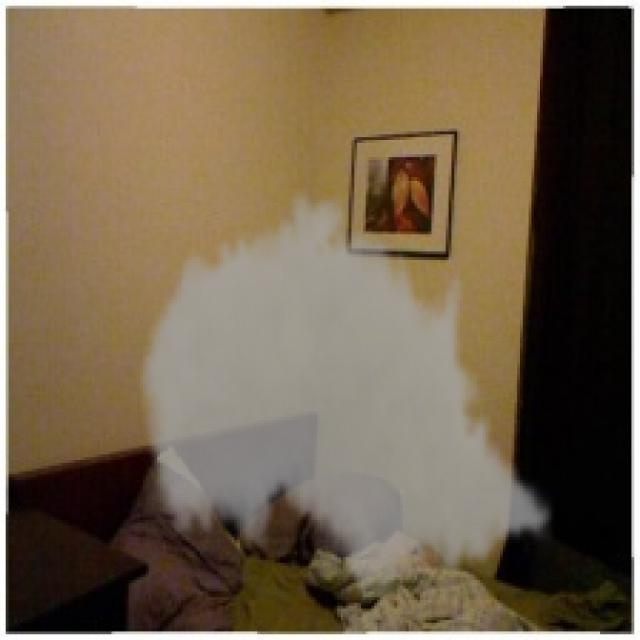smoke: (135, 183, 554, 606)
